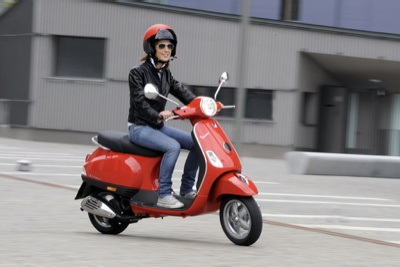helmet: (141, 24, 179, 65)
